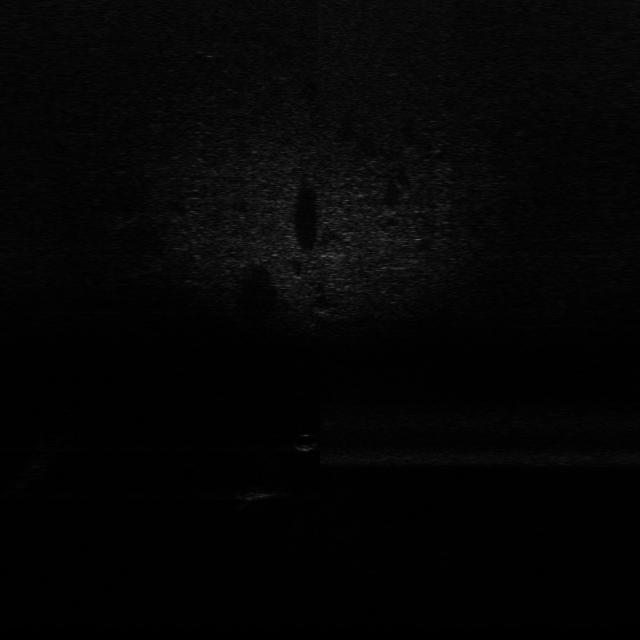ball: (290, 430, 316, 452)
square cage: (233, 483, 291, 502)
